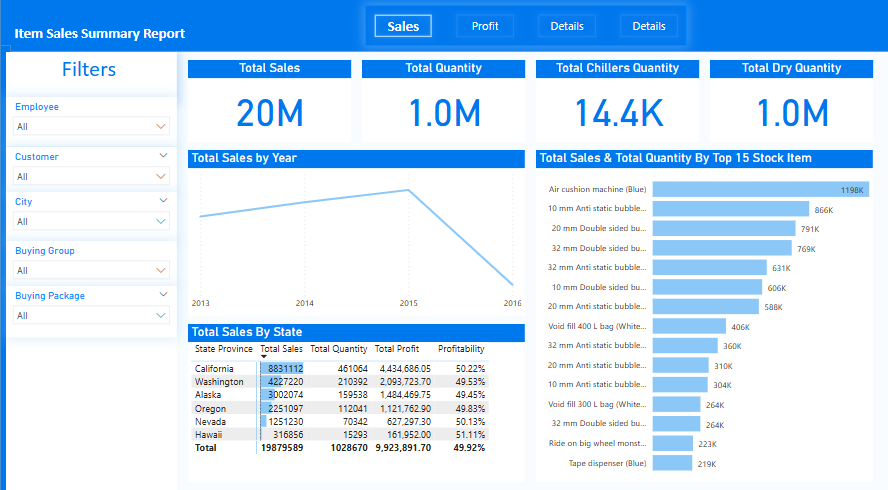

The dashboard page shown, as its layout file describes it:
{"tool":"powerbi","page":{"name":"Sales","canvas":[1280,720],"ordinal":13},"visuals":[{"type":"shape","box":[0,10,1280,75.7],"z":0},{"type":"shape","box":[0,76.3,15.8,643.7],"z":1000},{"type":"shape","box":[8.6,85.7,245.7,634.3],"z":2000},{"type":"textbox","box":[15.8,38.9,305.3,47.5],"z":3000},{"type":"card","title":"Total Sales","fields":{"Values":["Sum(FactSale.Total Excluding Tax)"]},"box":[270.7,97.9,234.7,118.1],"z":4000},{"type":"card","title":"Total Quantity","fields":{"Values":["Sum(FactSale.Quantity)"]},"box":[521.3,97.9,234.7,118.1],"z":5000},{"type":"card","title":"Total Chillers Quantity ","fields":{"Values":["Sum(FactSale.Total Chiller Items)"]},"box":[771.8,97.9,234.7,118.1],"z":6000},{"type":"card","title":"Total Dry Quantity","fields":{"Values":["Sum(FactSale.Total Dry Items)"]},"box":[1022.4,97.9,234.7,118.1],"z":7000},{"type":"pivotTable","title":"Total Sales By State","fields":{"Values":["Sum(FactSale.Total Excluding Tax)","Sum(FactSale.Quantity)","Sum(FactSale.Profit)","FactSale.Profitability"],"Rows":["DimCity.State Province"]},"box":[270.7,478.1,485.3,227.5],"z":8000},{"type":"barChart","title":"Total Sales & Total Quantity By Top 15 Stock Item ","fields":{"Category":["DimStockItem.Stock Item"],"Y":["Sum(FactSale.Total Excluding Tax)"]},"box":[771.8,227.5,485.3,478.1],"z":9000},{"type":"lineChart","fields":{"Category":["DimDate.Date.Variation.Date Hierarchy.Year","DimDate.Date.Variation.Date Hierarchy.Quarter","DimDate.Date.Variation.Date Hierarchy.Month","DimDate.Date.Variation.Date Hierarchy.Day"],"Y":["Sum(FactSale.Total Excluding Tax)"]},"box":[270.7,227.5,485.3,239],"z":10000},{"type":"textbox","box":[8.6,85.7,245.7,71.4],"z":11000},{"type":"slicer","fields":{"Values":["DimEmployee.Employee"]},"box":[8.6,151.4,245.7,71.4],"z":12000},{"type":"slicer","fields":{"Values":["DimCustomer.Customer"]},"box":[8.6,223.2,245.7,67.1],"z":13000},{"type":"slicer","fields":{"Values":["DimCity.City"]},"box":[8.6,287.9,245.7,72.9],"z":14000},{"type":"slicer","fields":{"Values":["DimCustomer.Buying Group"]},"box":[8.6,358.2,245.7,67.1],"z":15000},{"type":"slicer","fields":{"Values":["DimStockItem.Buying Package"]},"box":[8.6,422.9,245.7,74.3],"z":16000},{"type":"pageNavigator","box":[525.7,18.6,462.9,58.6],"z":17000}]}

Visuals, with their boxes in screenshot pixels (x1, y1, x2, y2), scaled from the page's 1280x720 canvas onto the 888x490 screenshot:
shape: rect(0, 7, 887, 58)
shape: rect(0, 52, 11, 489)
shape: rect(6, 58, 176, 489)
textbox: rect(11, 26, 223, 59)
"Total Sales" card: rect(188, 67, 351, 147)
"Total Quantity" card: rect(362, 67, 524, 147)
"Total Chillers Quantity " card: rect(535, 67, 698, 147)
"Total Dry Quantity" card: rect(709, 67, 872, 147)
"Total Sales By State" pivotTable: rect(188, 325, 524, 480)
"Total Sales & Total Quantity By Top 15 Stock Item " barChart: rect(535, 155, 872, 480)
lineChart - DimDate.Date.Variation.Date Hierarchy.Year x DimDate.Date.Variation.Date Hierarchy.Quarter: rect(188, 155, 524, 317)
textbox: rect(6, 58, 176, 107)
slicer - DimEmployee.Employee: rect(6, 103, 176, 152)
slicer - DimCustomer.Customer: rect(6, 152, 176, 198)
slicer - DimCity.City: rect(6, 196, 176, 246)
slicer - DimCustomer.Buying Group: rect(6, 244, 176, 289)
slicer - DimStockItem.Buying Package: rect(6, 288, 176, 338)
pageNavigator: rect(365, 13, 686, 53)
